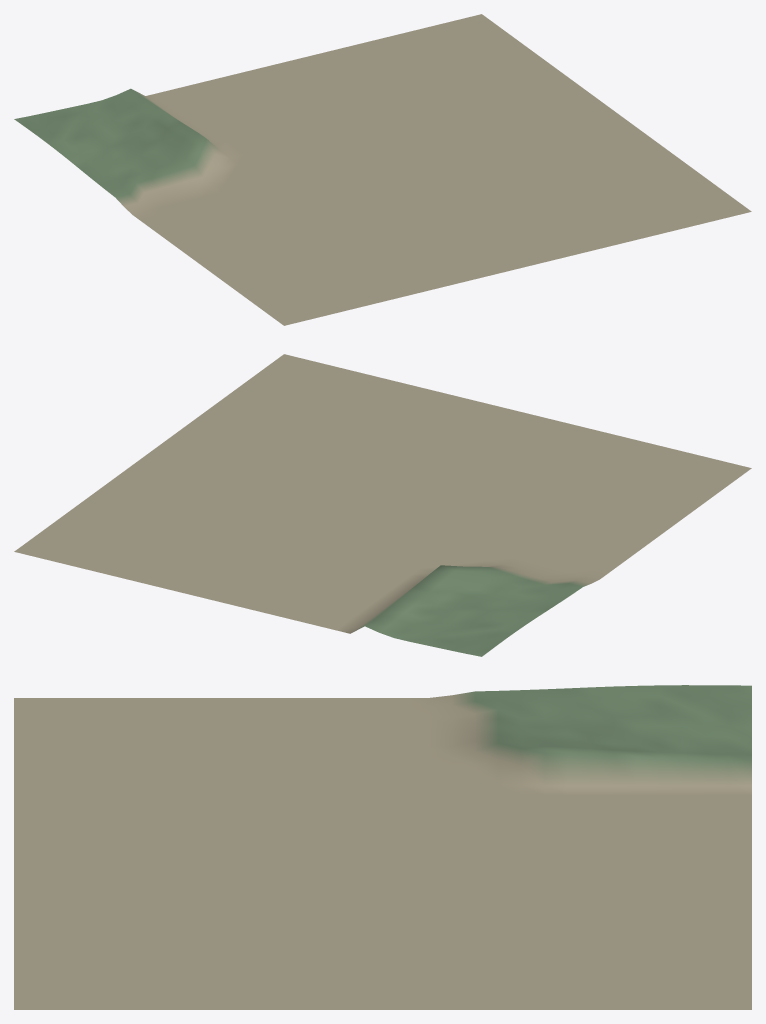
3 renders of one model, top to bottom at view 1: azimuth 30°, elevation 25°; view 2: azimuth 150°, elevation 25°; view 3: azimuth 270°, elevation 25°, orthographic. The views are drawn at different scales.
Visible parts, largest first — view 1: Terrain-col; view 2: Terrain-col; view 3: Terrain-col.
Part boxes in pixels (x1,y1,x2,y2): Terrain-col: (14,14,751,325); Terrain-col: (14,354,751,656); Terrain-col: (14,685,751,1009).
Bounding box in the file's own units: 256 × 8.66 × 256.
